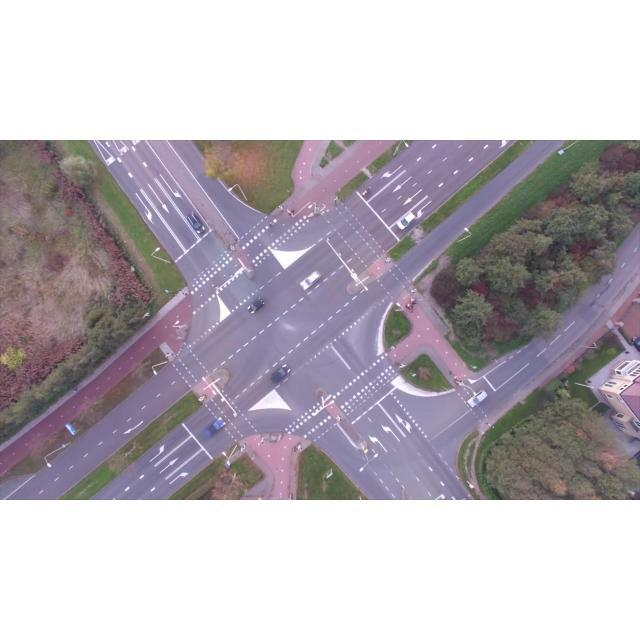vehicle: (185, 212, 205, 234), (299, 270, 321, 290), (466, 389, 488, 408), (204, 418, 226, 437), (270, 364, 290, 384), (246, 296, 266, 314), (396, 212, 416, 230)
